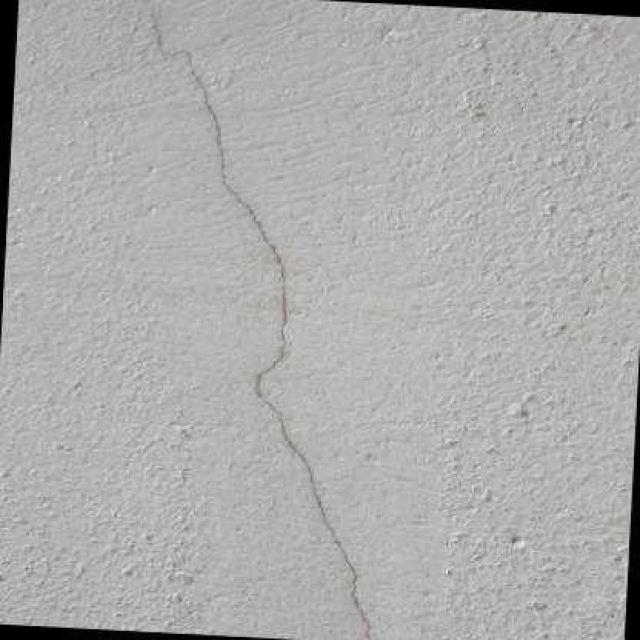D00: (147, 5, 374, 640)
